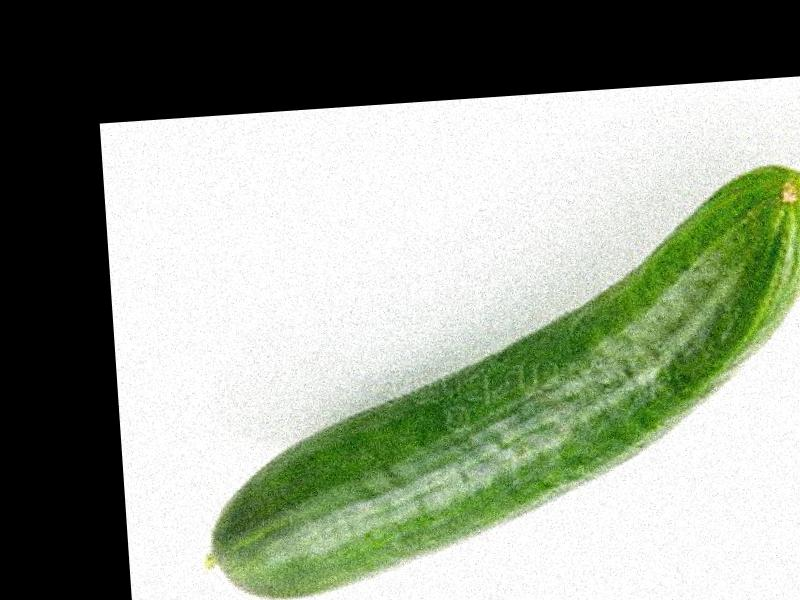Cucumber: (189, 162, 800, 600)
